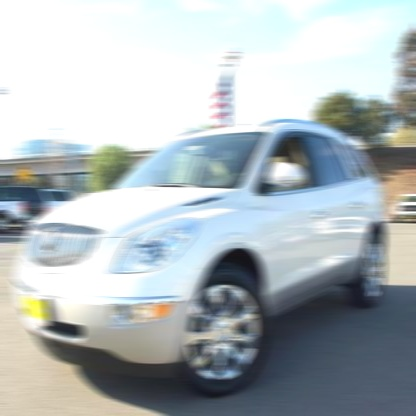Vehicle: (13, 123, 387, 388)
